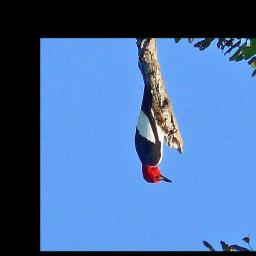Woodpecker: (126, 61, 178, 192)
